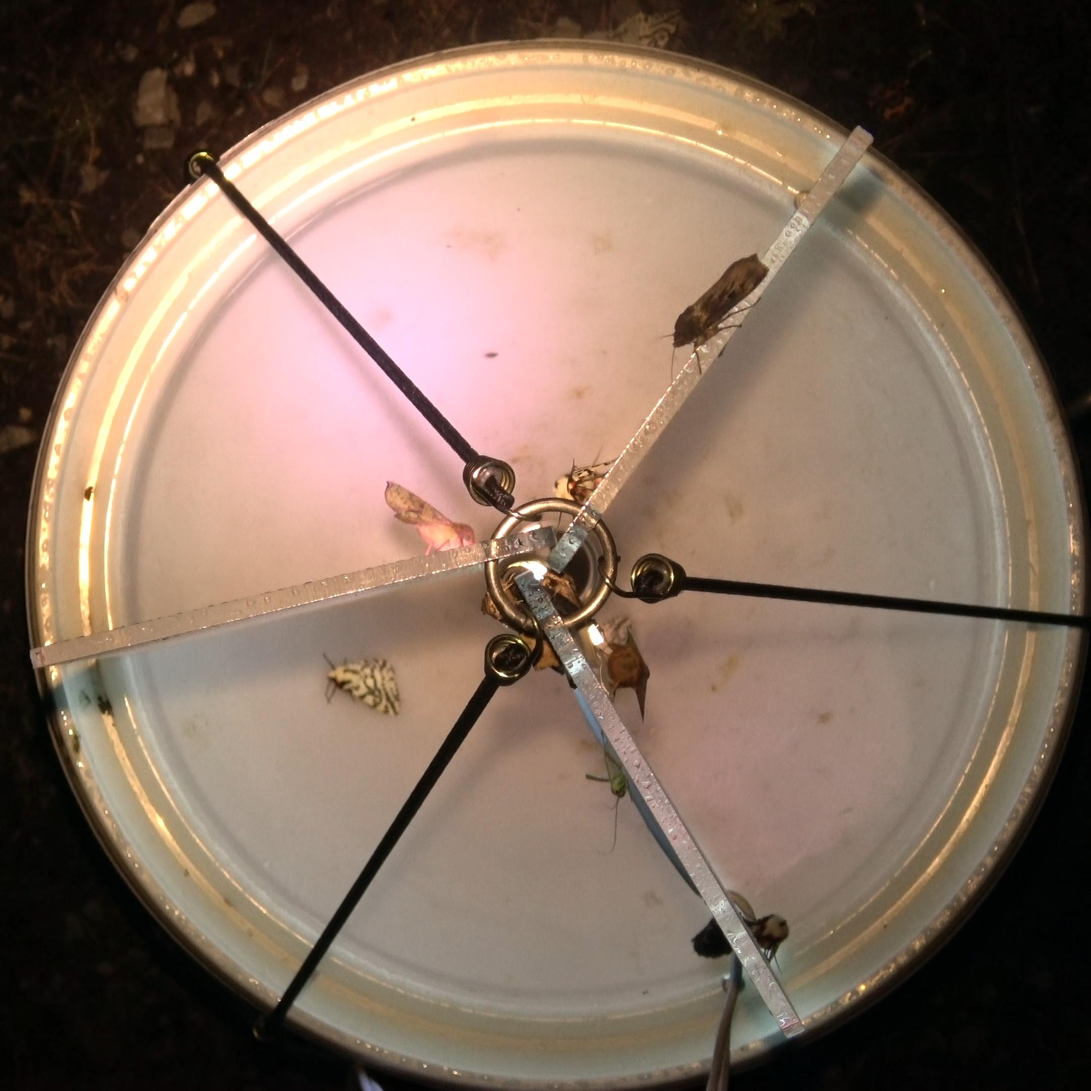bogong: (653, 251, 773, 388), (478, 571, 524, 626), (518, 630, 563, 673), (540, 568, 583, 611)
hymenoptera: (583, 728, 633, 857)
moth_na: (381, 478, 477, 557), (550, 442, 621, 532), (724, 888, 789, 977), (321, 648, 404, 717), (596, 625, 652, 724), (691, 917, 733, 961), (596, 611, 635, 646)
objects: (80, 484, 94, 502), (483, 350, 499, 359)
